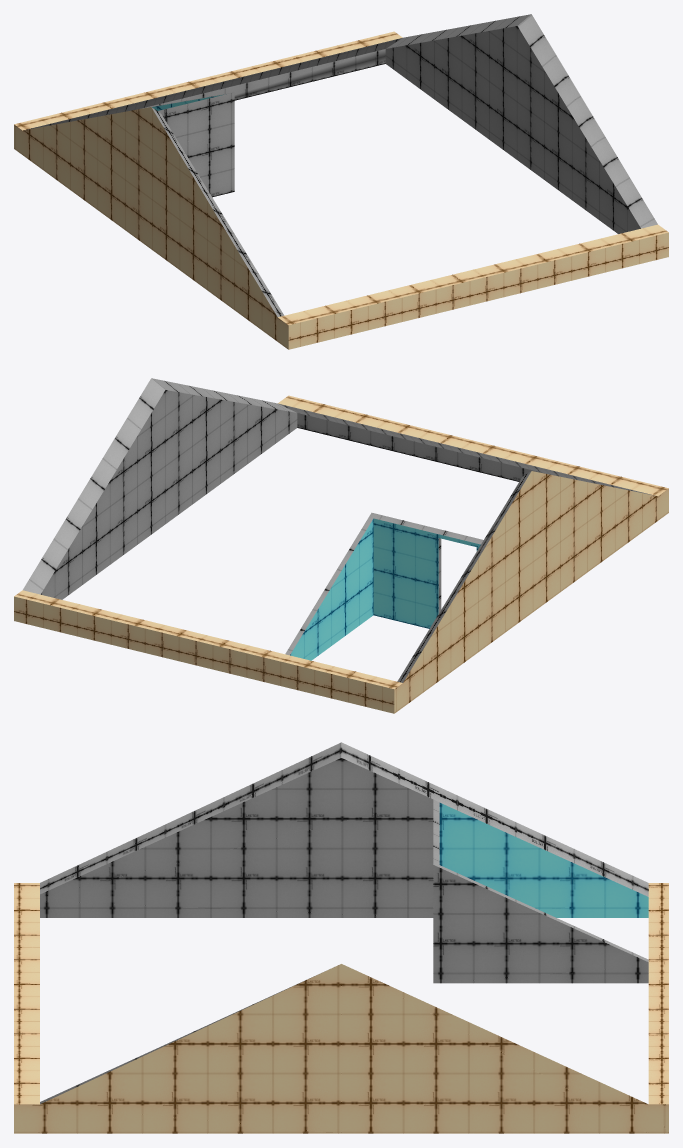
The model's file is Casa_INTERIOR_atico.fbx.
3 views of the same model, one above another, from view 1: azimuth 30°, elevation 25°; view 2: azimuth 150°, elevation 25°; view 3: azimuth 270°, elevation 25° (orthographic). The views are drawn at different scales.
Visible parts, largest first — view 1: Casa_INTERIOR_atico; view 2: Casa_INTERIOR_atico; view 3: Casa_INTERIOR_atico.
Part boxes in pixels (left/top/right/bottom): Casa_INTERIOR_atico: left=14, top=14, right=668, bottom=349; Casa_INTERIOR_atico: left=14, top=378, right=668, bottom=713; Casa_INTERIOR_atico: left=14, top=742, right=668, bottom=1133.
Size of the model in its own units: 10.38 by 3.72 by 12.97.
